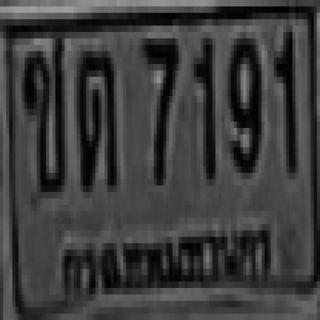A10: (22, 32, 64, 192)
A21: (76, 45, 116, 186)
N01: (272, 29, 294, 170), (191, 32, 212, 179)
N07: (142, 35, 175, 176)
N09: (225, 32, 258, 173)
P04: (55, 217, 282, 301)
